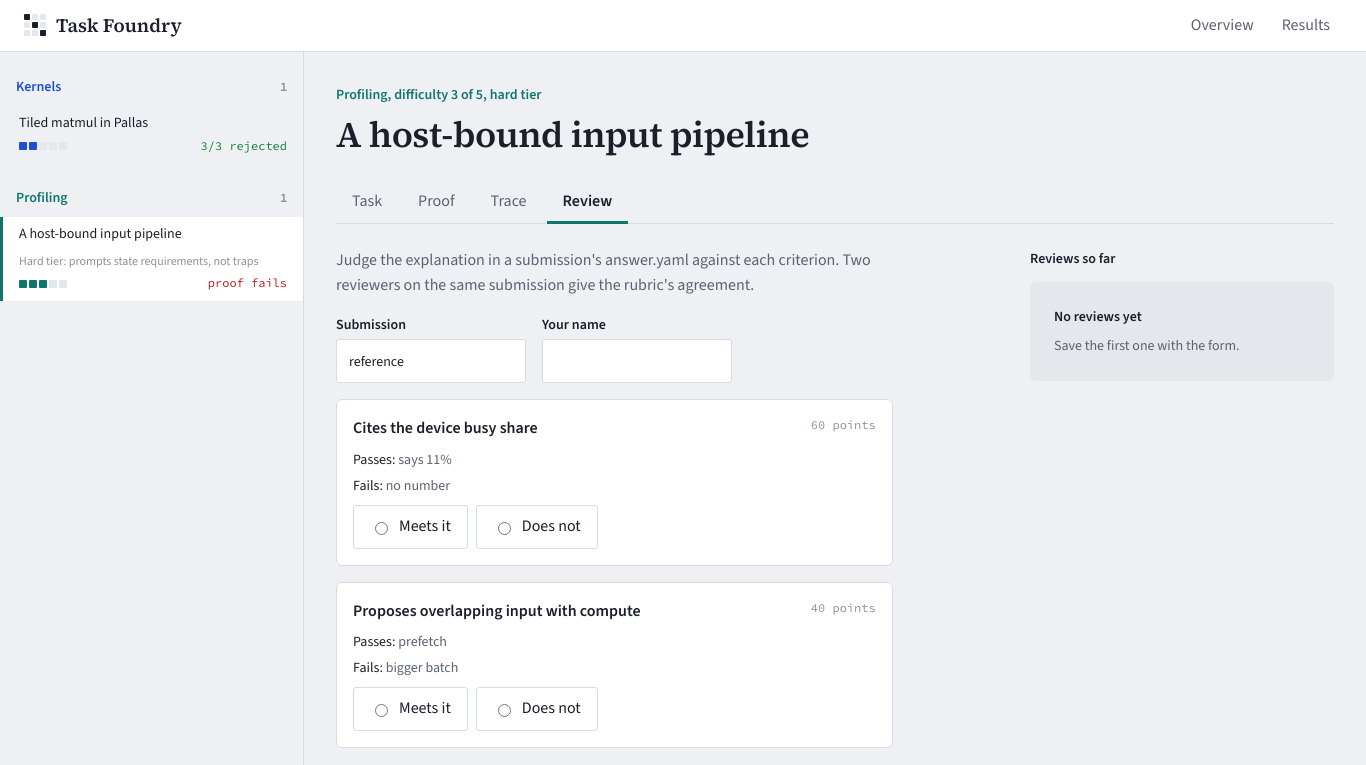
Test: a task › saves a review only once every criterion is judged
Expected: the text "No reviews yet" is shown, 1054,307 -> 1142,326
In the field labelled "Your name": (637, 361) 542,339 -> 732,383, type "Ana"
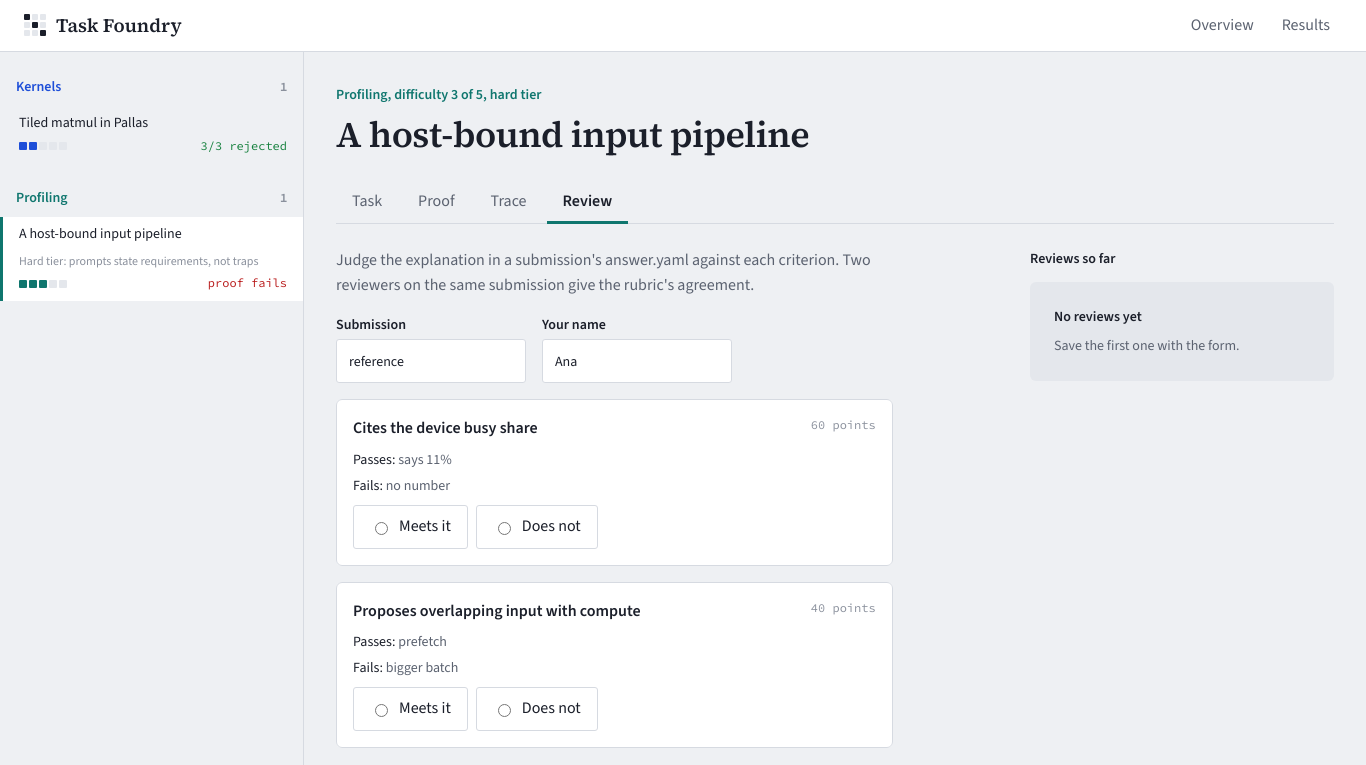
Click the radio button labelled "Meets it" below "no number": (382, 528) 375,522 -> 388,534
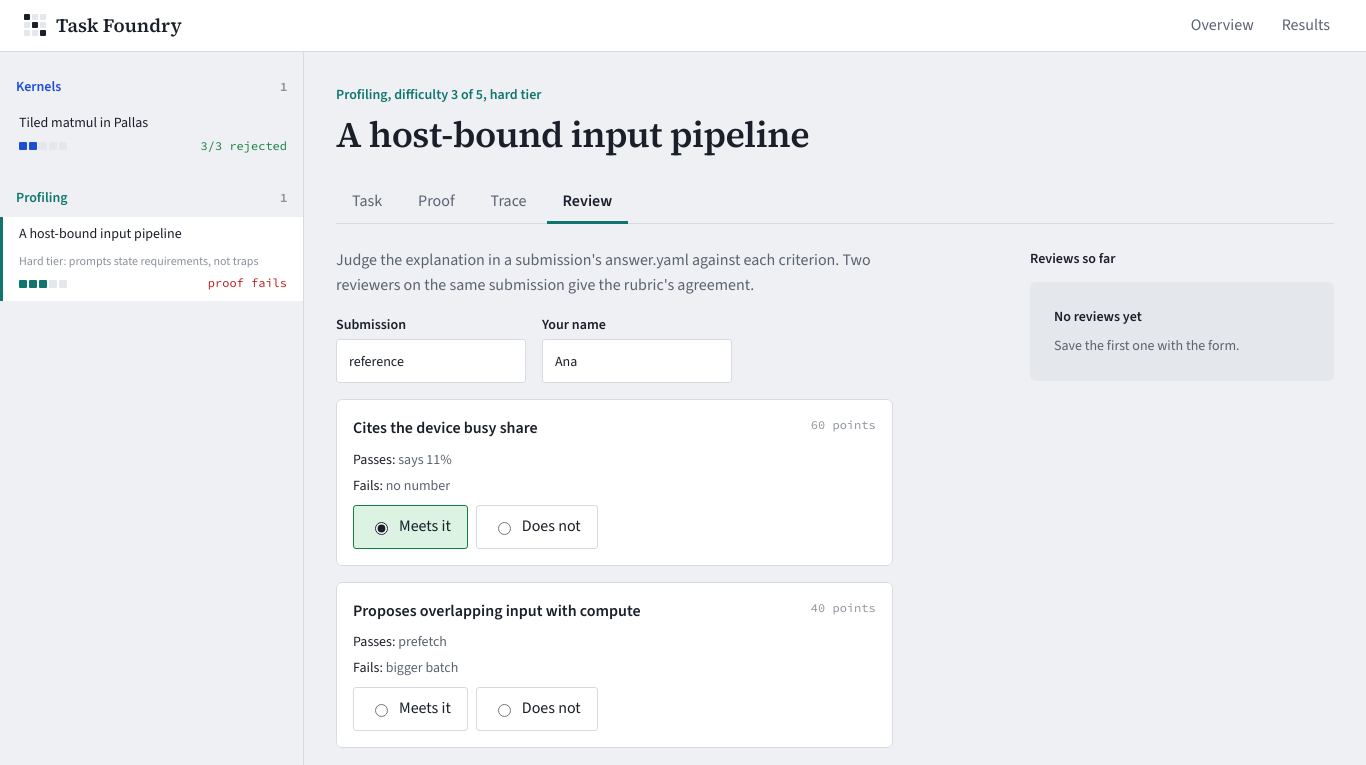
Click the radio button labelled "Does not" below "bigger batch": (504, 710) 498,704 -> 511,717
(page scrolled)
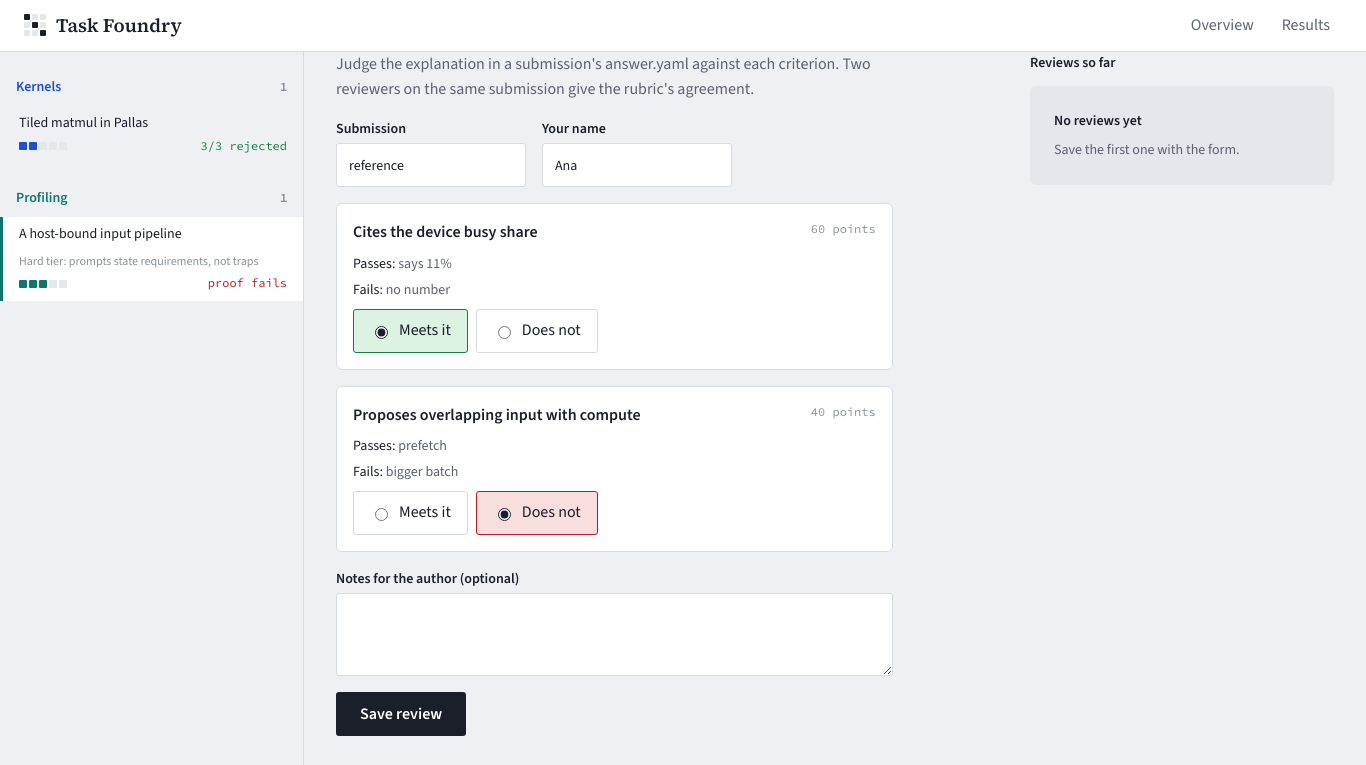
Expected: the button "Save review" is enabled
Click the button "Save review": (401, 714) 336,692 -> 466,736
(page scrolled)
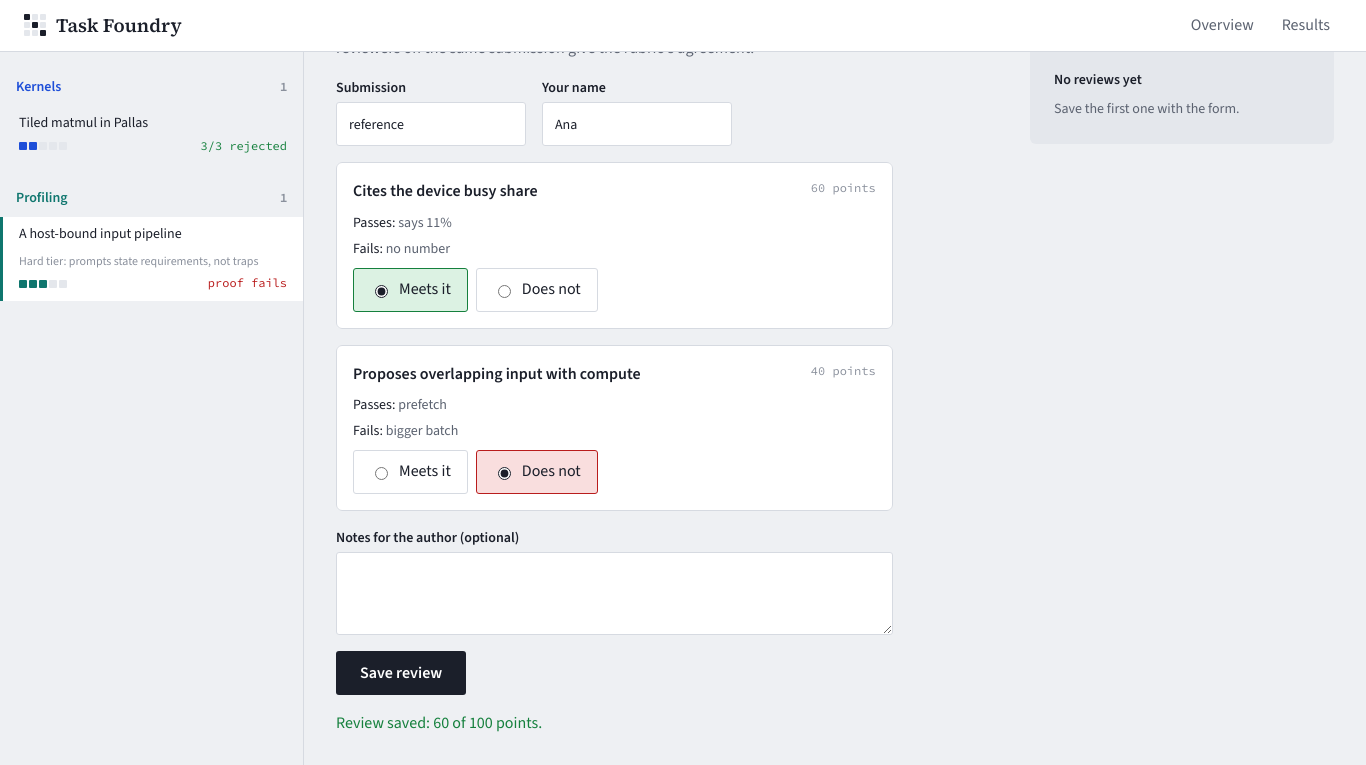
Expected: the text "Review saved: 60 of 100 points." is shown, 336,712 -> 542,734
